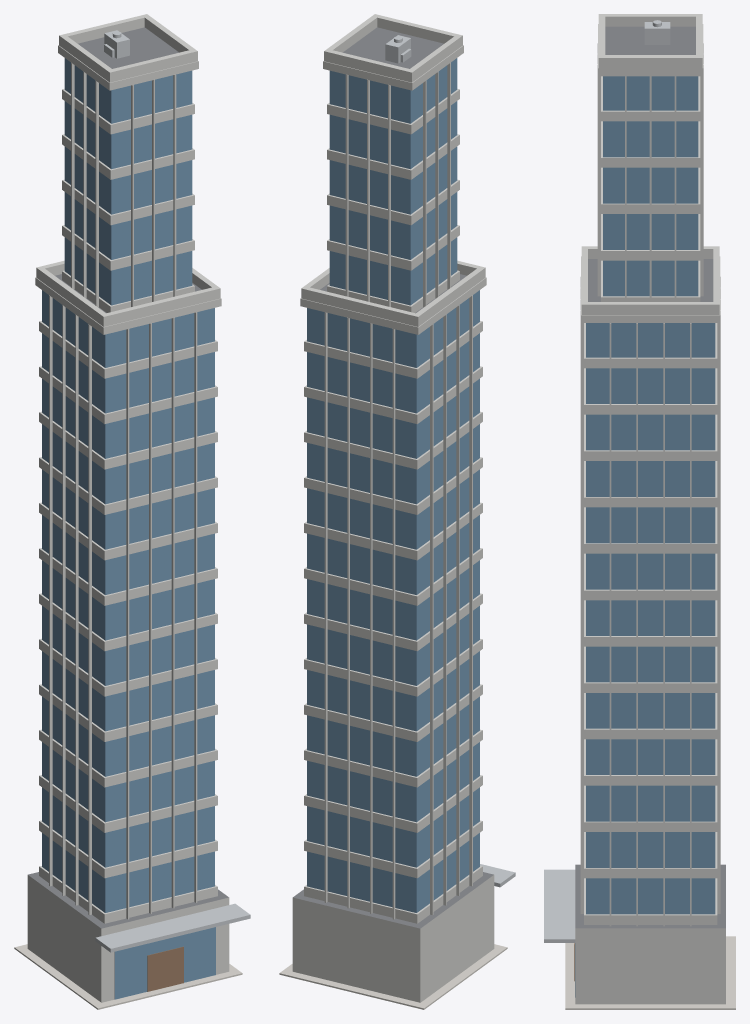
3 renders of one model, left to right at view 1: azimuth 30°, elevation 25°; view 2: azimuth 150°, elevation 25°; view 3: azimuth 270°, elevation 25°, orthographic. The views are drawn at different scales.
Visible parts, largest first — view 1: c_3_1_b; view 2: c_3_1_b; view 3: c_3_1_b.
Boxes of the visible parts, <box> form: c_3_1_b: <box>14,14,250,1009</box>; c_3_1_b: <box>279,14,515,1009</box>; c_3_1_b: <box>544,14,735,1009</box>.
Bounding box in the file's own units: 12 × 73.56 × 13.5.
